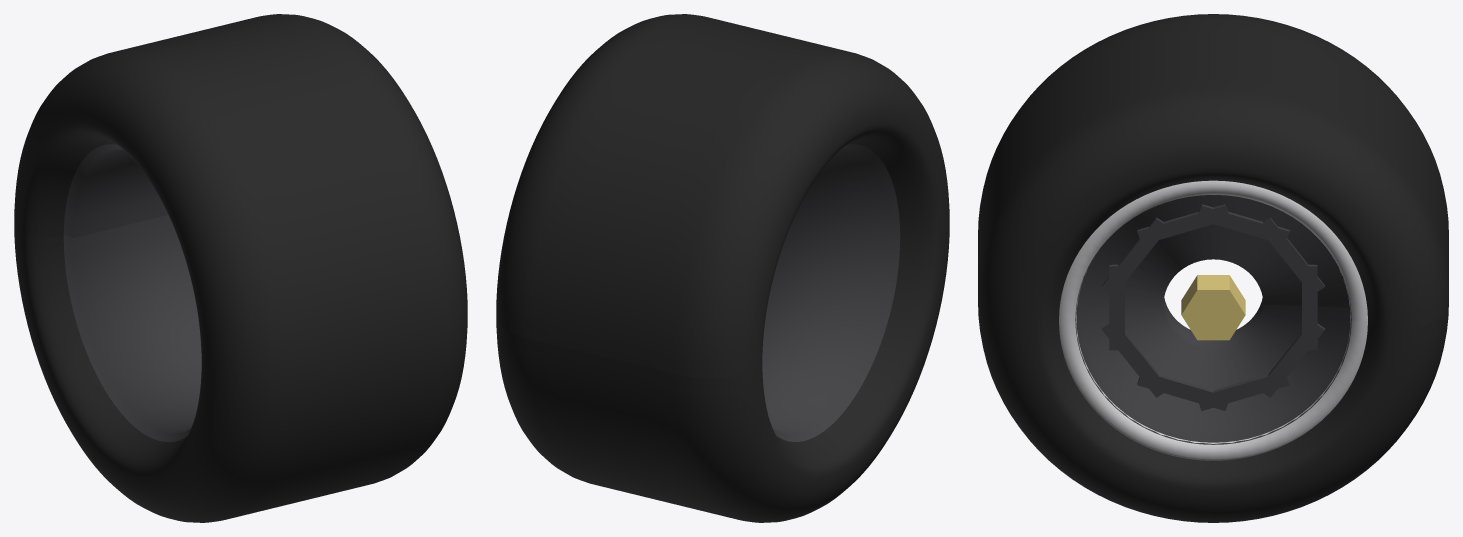
File: wheel_rear.glb
The picture shows the model from 3 angles, left to right: view 1: azimuth 30°, elevation 25°; view 2: azimuth 150°, elevation 25°; view 3: azimuth 270°, elevation 25°; orthographic projection. The views are drawn at different scales.
Visible parts, largest first — view 1: RearTire, RearRim; view 2: RearTire, RearRim; view 3: RearTire, RearRim, RearLip.
Boxes of the visible parts, x1,y1,x2,y2 form: RearTire: (14, 14, 467, 522); RearRim: (63, 144, 201, 441); RearTire: (496, 14, 949, 522); RearRim: (762, 144, 900, 441); RearTire: (978, 14, 1448, 522); RearRim: (1075, 195, 1351, 444); RearLip: (1059, 180, 1367, 460).
Bounding box in the file's own units: 0.404 × 0.66 × 0.66.
